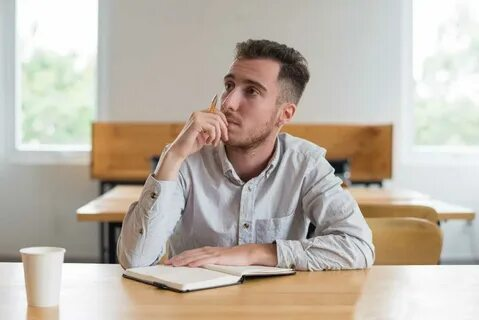awake: (115, 37, 376, 274)
